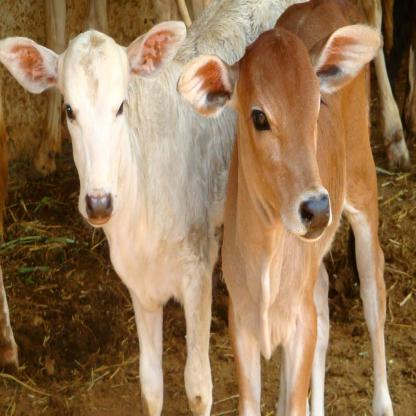cow: (1, 19, 275, 416), (182, 0, 393, 416)
